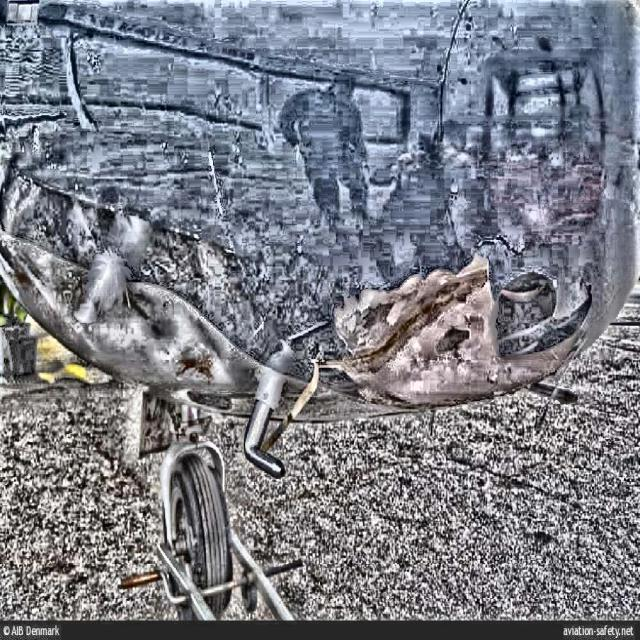crack: (478, 232, 528, 264)
dent: (130, 294, 182, 352), (190, 310, 230, 379)
